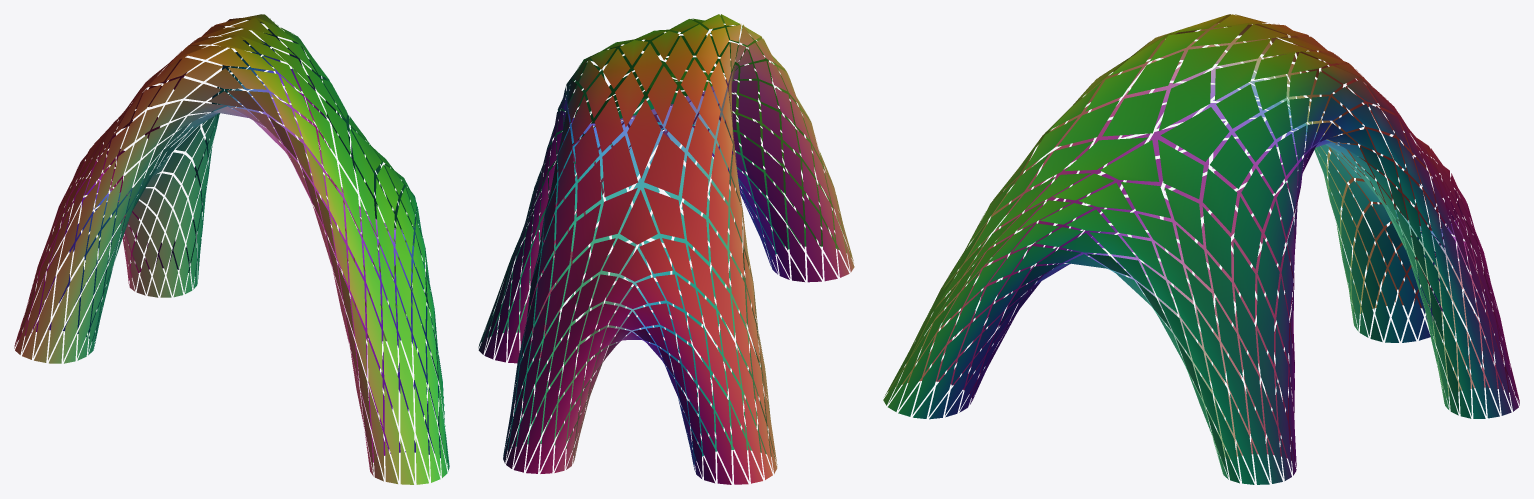
Rendered from fabArch.obj.
3 views of the same model, side by side, from view 1: azimuth 30°, elevation 25°; view 2: azimuth 150°, elevation 25°; view 3: azimuth 270°, elevation 25° (orthographic). The views are drawn at different scales.
Visible parts, largest first — view 1: piece_663, piece_319, piece_317, piece_306, piece_662, piece_660, piece_609, piece_668, piece_316, piece_318, piece_666, piece_311 (+30 smaller); view 2: piece_395, piece_331, piece_329, piece_579, piece_515, piece_513, piece_58, piece_220, piece_6, piece_56, piece_160, piece_223 (+86 smaller); view 3: piece_327, piece_399, piece_321, piece_401, piece_407, piece_125, piece_617, piece_124, piece_63, piece_67, piece_3, piece_127 (+39 smaller).
Part boxes in pixels (x1,y1,x2,y2): piece_663: (384,384,398,480); piece_319: (400,385,414,481); piece_317: (383,335,398,425); piece_306: (367,338,383,426); piece_662: (366,287,382,372); piece_660: (348,249,365,327); piece_609: (414,386,429,479); piece_668: (363,243,381,323); piece_316: (398,336,413,426); piece_318: (382,287,398,372); piece_666: (345,202,363,276); piece_311: (324,173,345,239); piece_395: (644,133,684,195); piece_331: (602,136,638,196); piece_329: (627,99,660,178); piece_579: (644,188,684,238); piece_515: (620,190,657,244); piece_513: (595,188,637,239); piece_58: (665,88,695,147); piece_220: (682,155,708,214); piece_6: (594,95,623,152); piece_56: (647,66,677,124); piece_160: (576,160,601,217); piece_223: (682,202,708,261); piece_327: (1160,107,1229,161); piece_399: (1102,90,1166,136); piece_321: (1159,71,1210,130); piece_401: (1158,140,1203,198); piece_407: (1100,140,1159,181); piece_125: (1203,168,1237,232); piece_617: (1065,137,1148,170); piece_124: (1210,135,1253,188); piece_63: (1127,51,1183,94); piece_67: (1121,182,1170,218); piece_3: (1216,84,1259,128); piece_127: (1234,196,1261,268).
Bounding box in the file's own units: 4.52 × 4.28 × 6.77.
